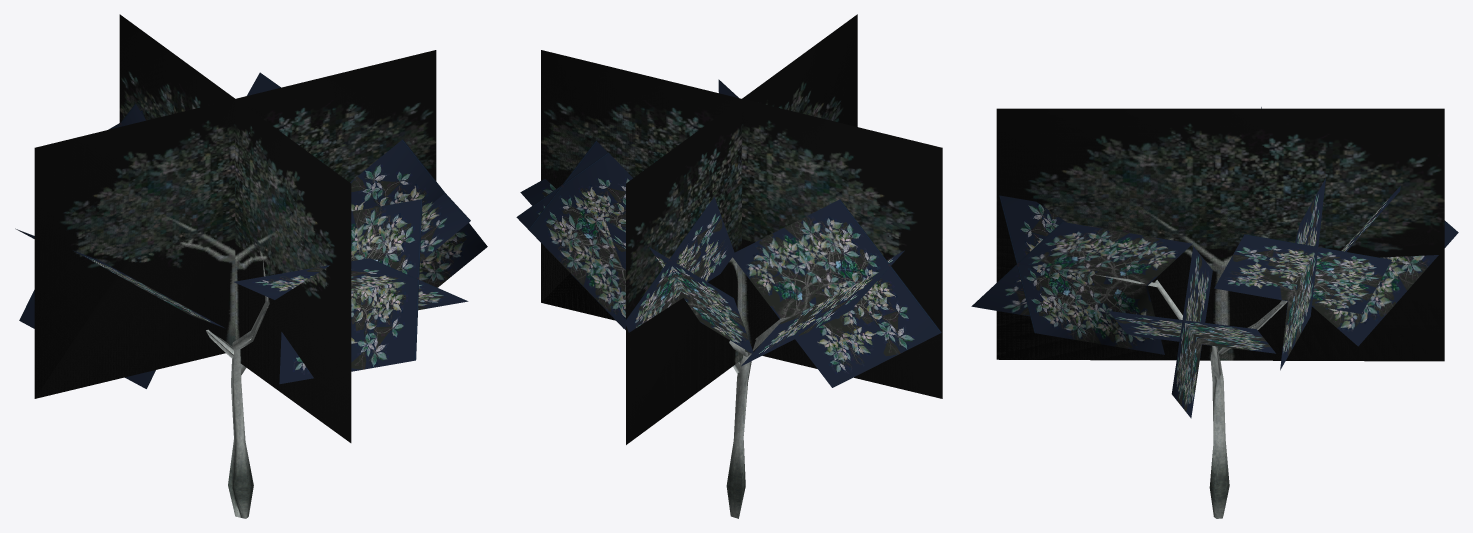
File: decd_tallbirch_l1.fbx
3 views of the same model, side by side, from view 1: azimuth 30°, elevation 25°; view 2: azimuth 150°, elevation 25°; view 3: azimuth 270°, elevation 25° (orthographic). The views are drawn at different scales.
Parts seen in each view (by area): view 1: mesh_node; view 2: mesh_node; view 3: mesh_node.
Part boxes in pixels (x1,y1,x2,y2): mesh_node: (15,14,487,518); mesh_node: (516,14,942,518); mesh_node: (971,107,1458,518).
Size of the model in its own units: 68.28 by 62.86 by 68.57.
